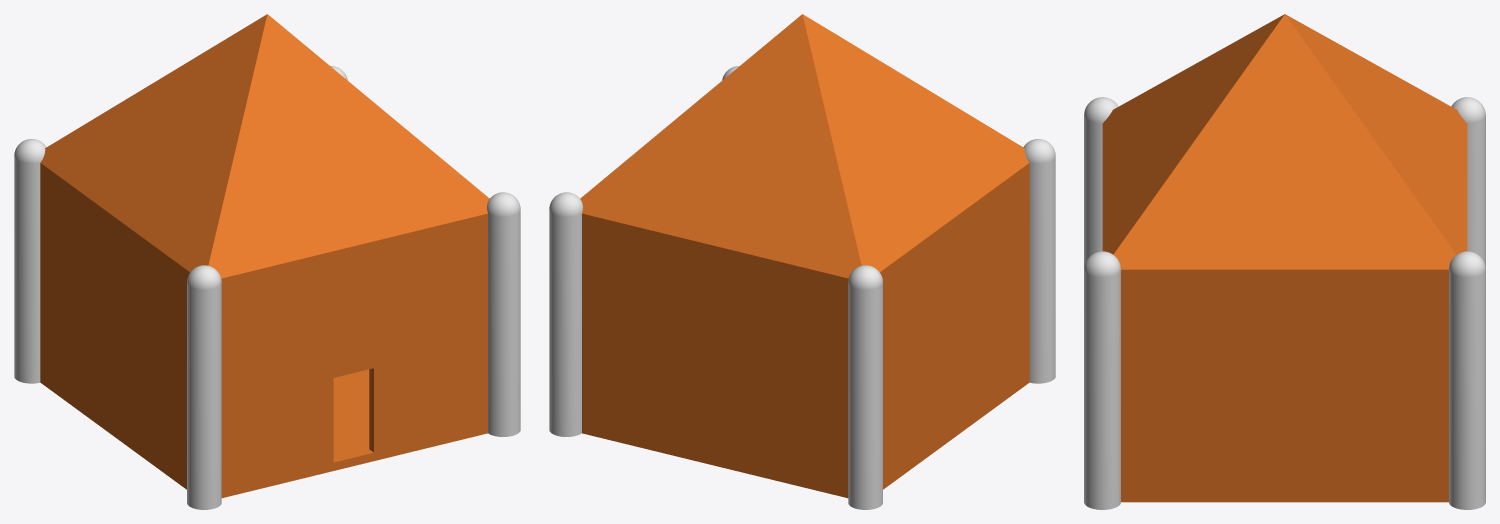
File: gingerbreadhouse.glb
3 renders of one model, left to right at view 1: azimuth 30°, elevation 25°; view 2: azimuth 150°, elevation 25°; view 3: azimuth 270°, elevation 25°, orthographic. The views are drawn at different scales.
Parts seen in each view (by area): view 1: gingerbreadhouse; view 2: gingerbreadhouse; view 3: gingerbreadhouse.
Boxes of the visible parts, x1,y1,x2,y2 form: gingerbreadhouse: (14,14,520,509); gingerbreadhouse: (549,14,1055,509); gingerbreadhouse: (1084,14,1485,509).
Size of the model in its own units: 8.15 by 9.2 by 8.15.
